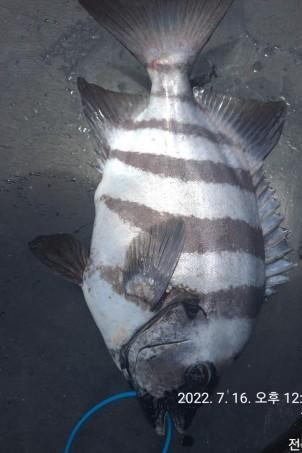fish: (28, 0, 292, 448)
